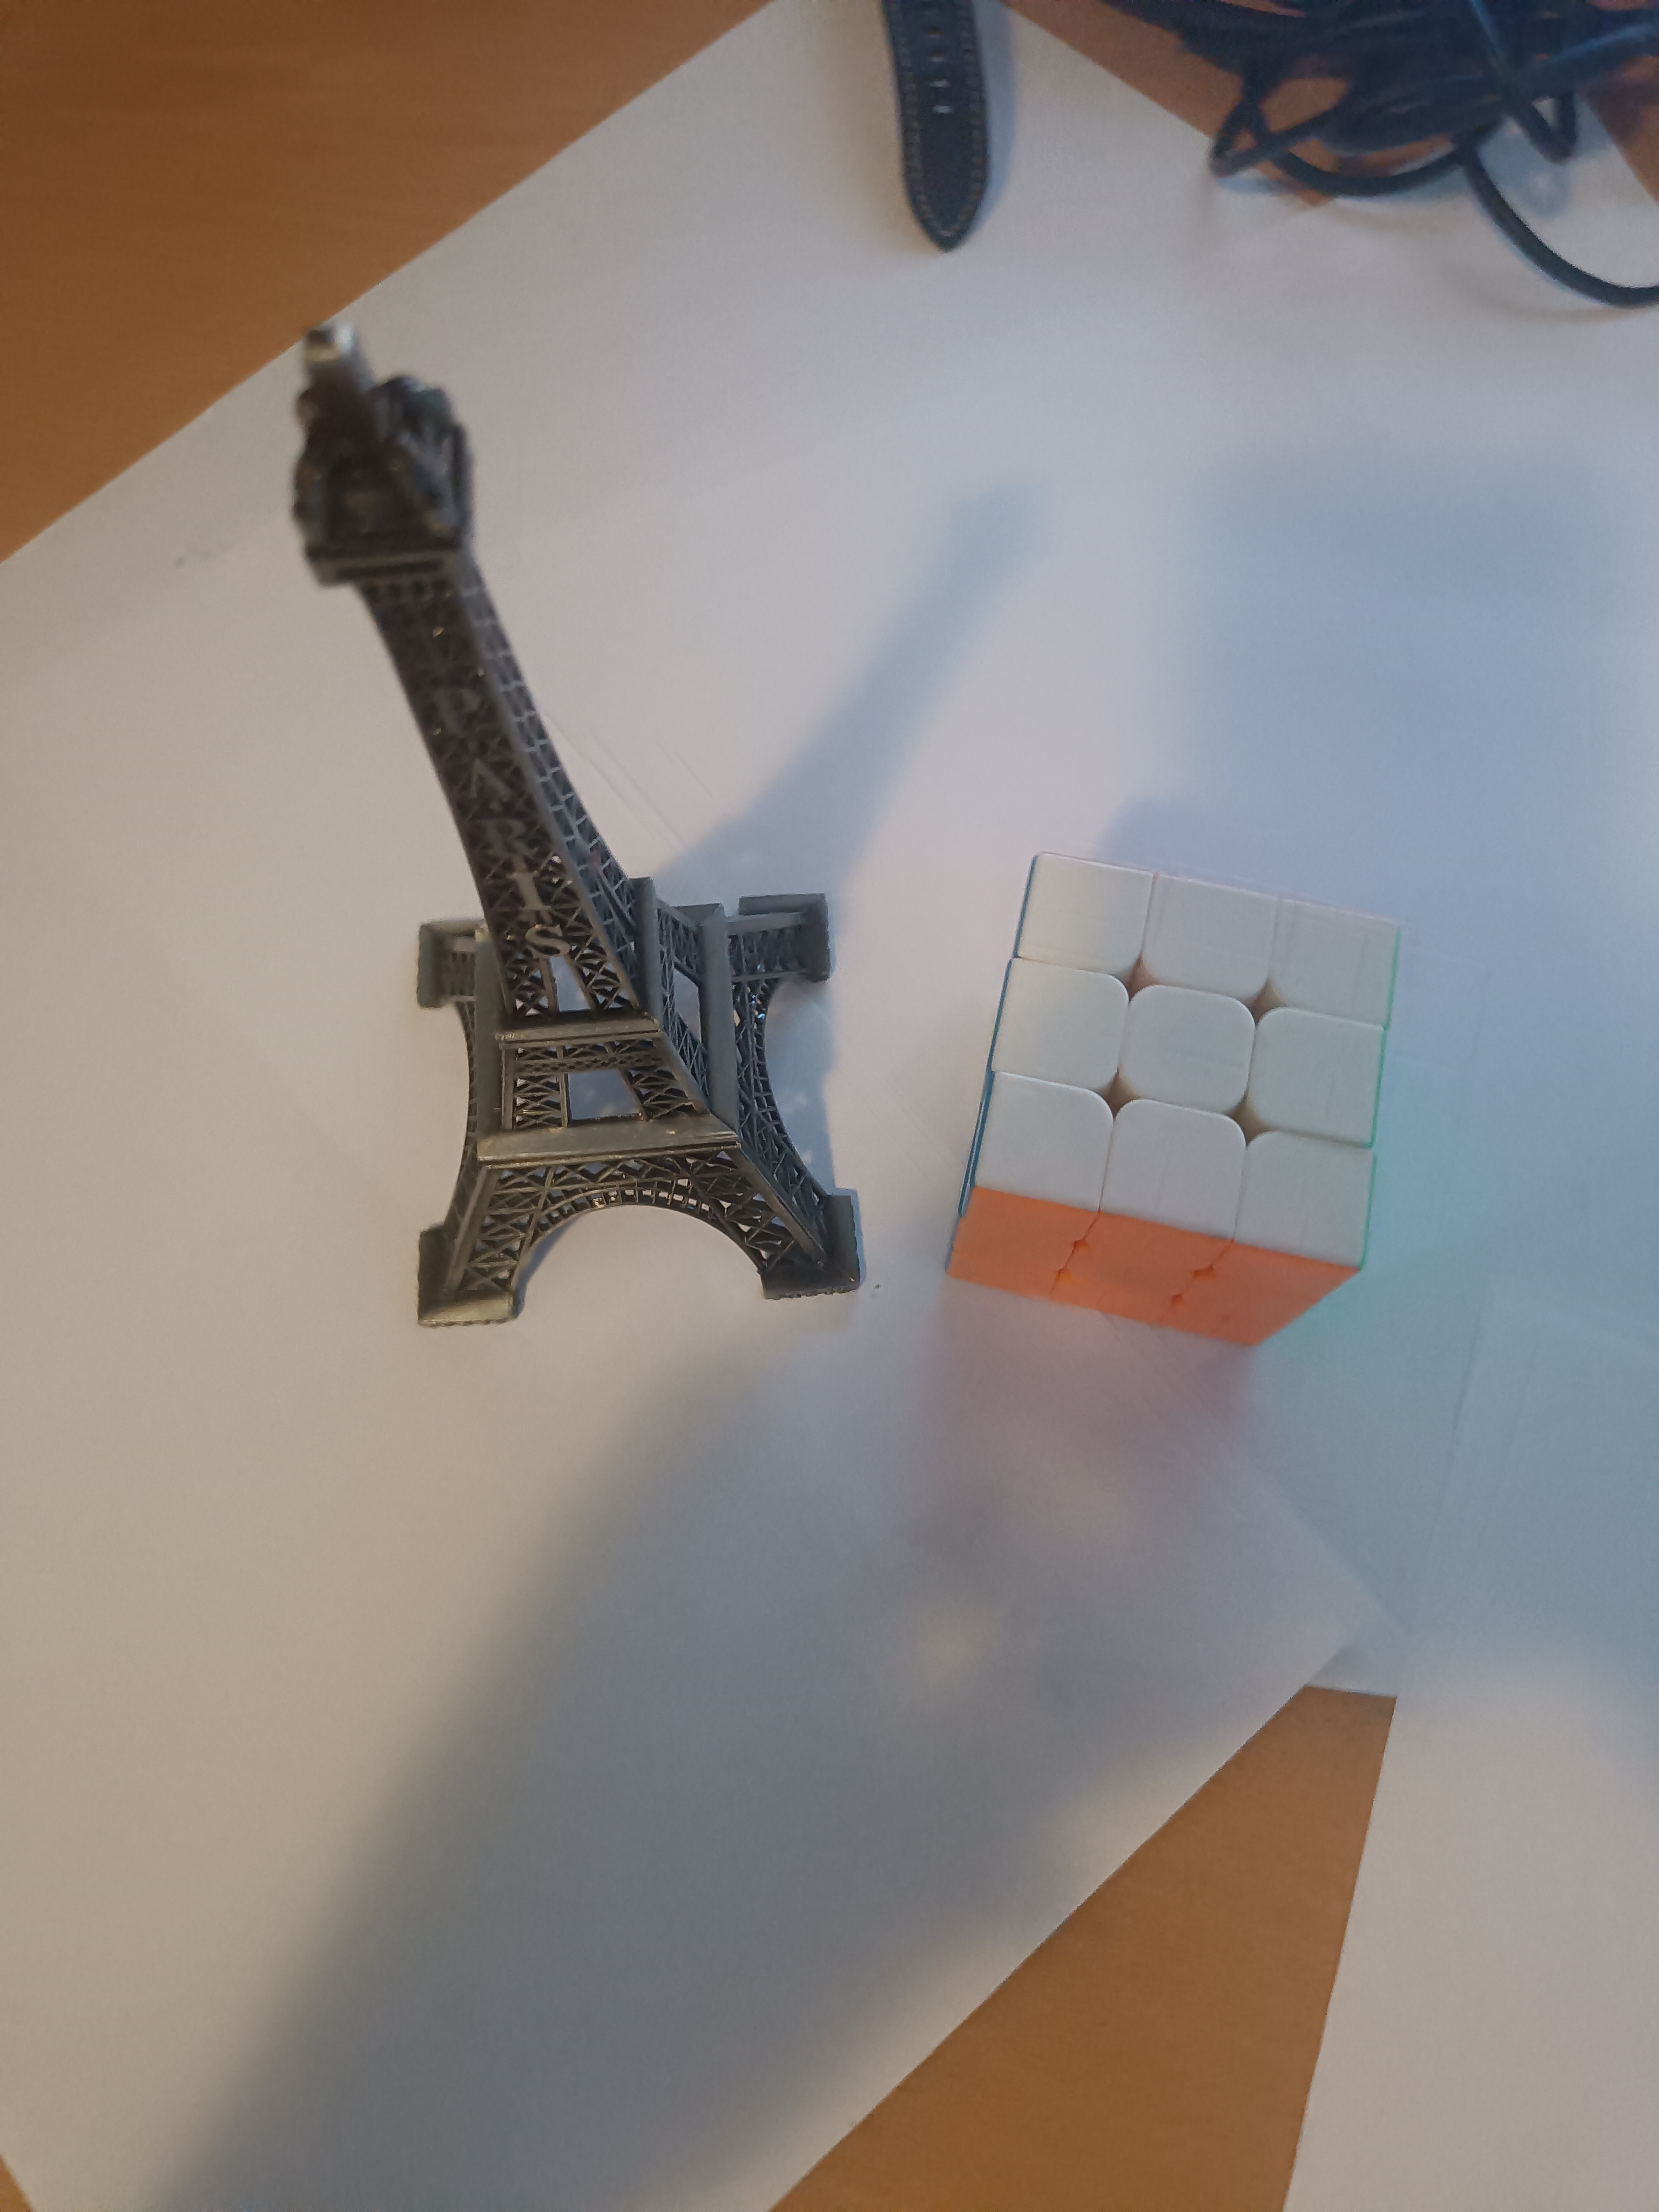Eiffel Tower: (260, 317, 880, 1338)
Rubiks Cube: (911, 838, 1420, 1359)
